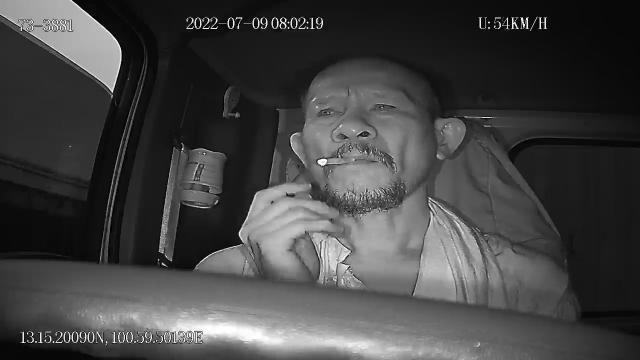SafeDriving: (365, 94, 405, 118), (310, 99, 346, 124)
Smoking: (316, 154, 356, 168)
